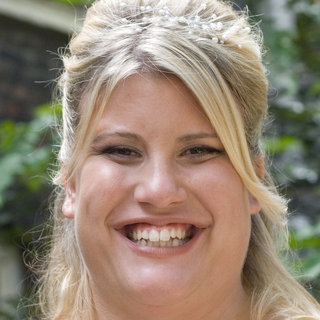eye: (176, 139, 227, 163), (94, 140, 144, 164)
